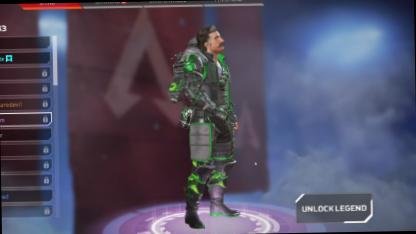Target: (176, 26, 240, 198)
